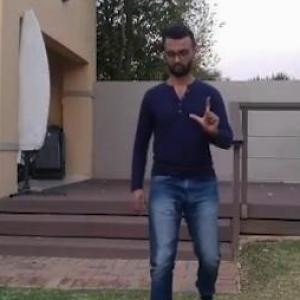land_hand: (183, 88, 227, 140)
